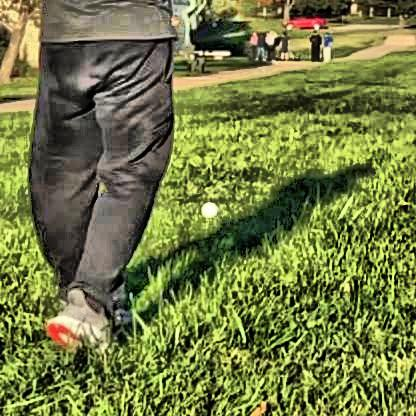golfball: (198, 199, 215, 216)
